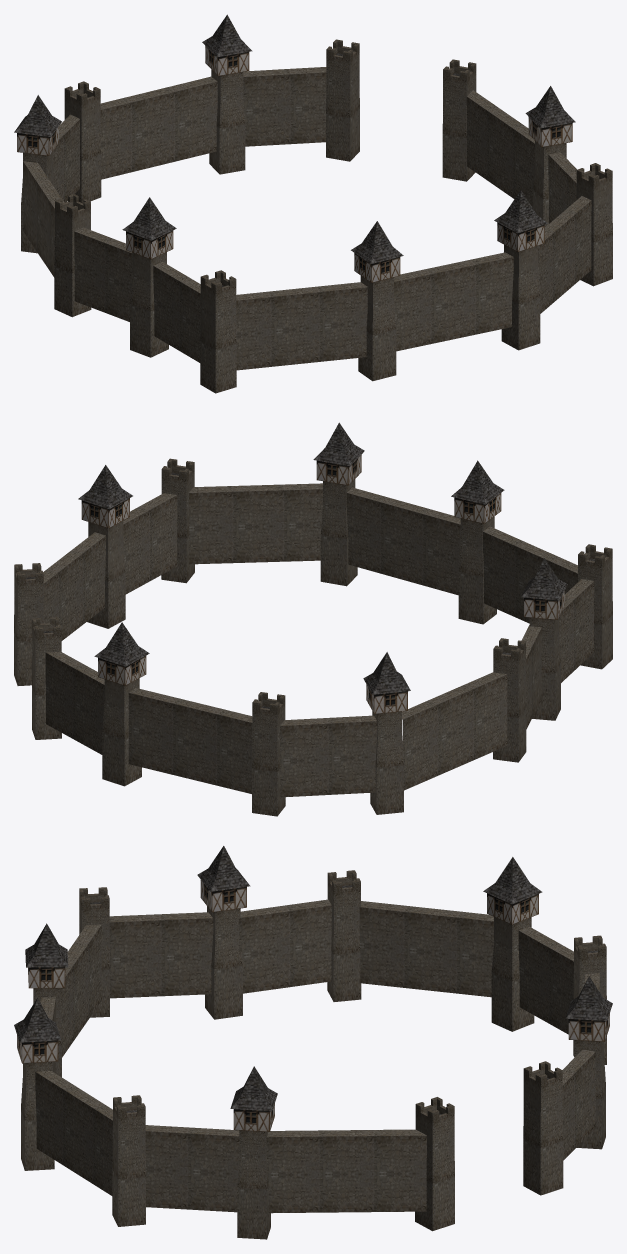
The model's file is citywalls.glb.
3 views of the same model, one above another, from view 1: azimuth 30°, elevation 25°; view 2: azimuth 150°, elevation 25°; view 3: azimuth 270°, elevation 25° (orthographic). The views are drawn at different scales.
Visible parts, largest first — view 1: CityWallBig; view 2: CityWallBig; view 3: CityWallBig.
Boxes of the visible parts, bbox=[...] form: CityWallBig: bbox=[14, 14, 612, 393]; CityWallBig: bbox=[14, 422, 612, 816]; CityWallBig: bbox=[14, 846, 612, 1239].
Bounding box in the file's own units: 4.82 × 1.5 × 4.89.
Materials: 1 (1 with a texture image).
